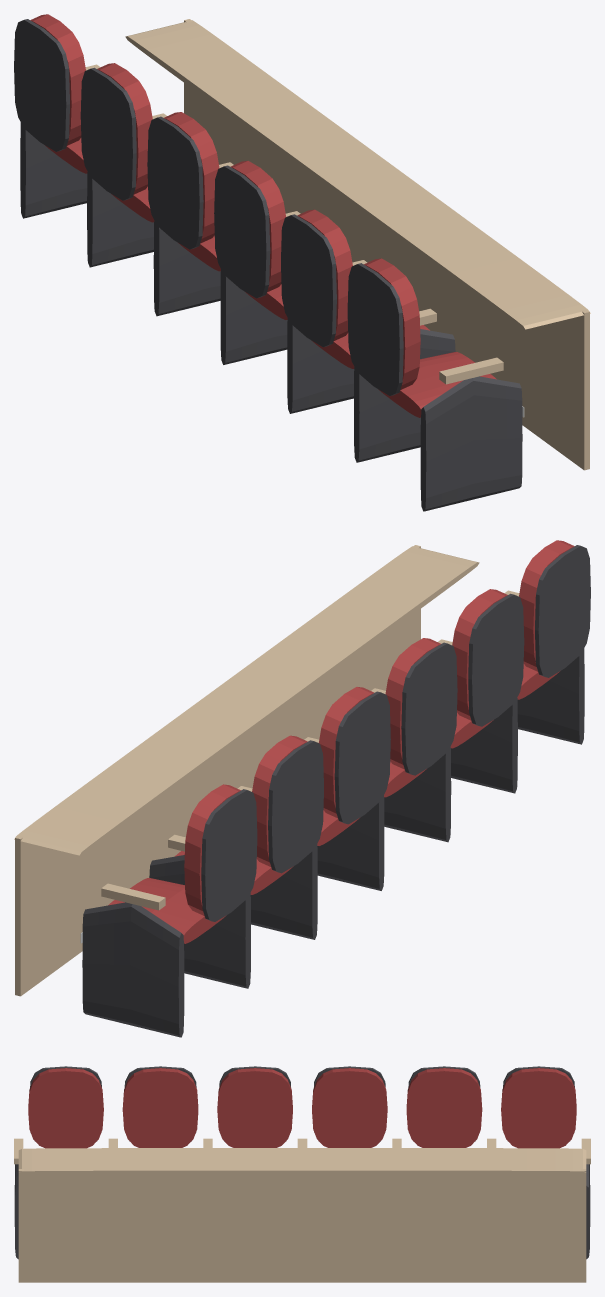
File: SM_Prop_LectureSeats.fbx
3 renders of one model, top to bottom at view 1: azimuth 30°, elevation 25°; view 2: azimuth 150°, elevation 25°; view 3: azimuth 270°, elevation 25°, orthographic. The views are drawn at different scales.
Visible parts, largest first — view 1: SM_Prop_LectureSeats; view 2: SM_Prop_LectureSeats; view 3: SM_Prop_LectureSeats.
Part boxes in pixels (box(x1,y1,x2,y2)): SM_Prop_LectureSeats: box(14, 14, 590, 511); SM_Prop_LectureSeats: box(14, 540, 590, 1037); SM_Prop_LectureSeats: box(14, 1066, 590, 1282).
Size of the model in its own units: 3.66 by 0.955 by 1.1.
